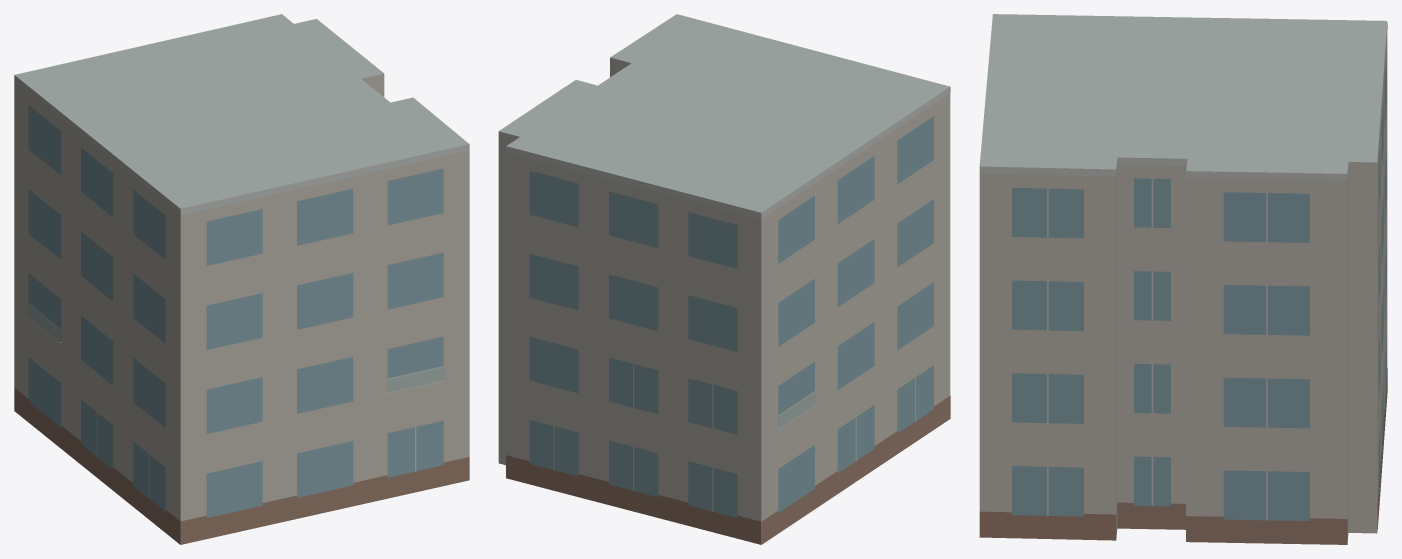
Rendered from survey-upis-32669481.glb.
3 views of the same model, side by side, from view 1: azimuth 30°, elevation 25°; view 2: azimuth 150°, elevation 25°; view 3: azimuth 270°, elevation 25° (orthographic). The views are drawn at different scales.
Parts seen in each view (by area): view 1: survey-upis-32669481.tmp; view 2: survey-upis-32669481.tmp; view 3: survey-upis-32669481.tmp.
Boxes of the visible parts, bbox=[...] form: survey-upis-32669481.tmp: bbox=[14, 14, 469, 544]; survey-upis-32669481.tmp: bbox=[498, 14, 950, 544]; survey-upis-32669481.tmp: bbox=[979, 14, 1387, 544].
Size of the model in its own units: 11.91 by 12.87 by 12.84.
